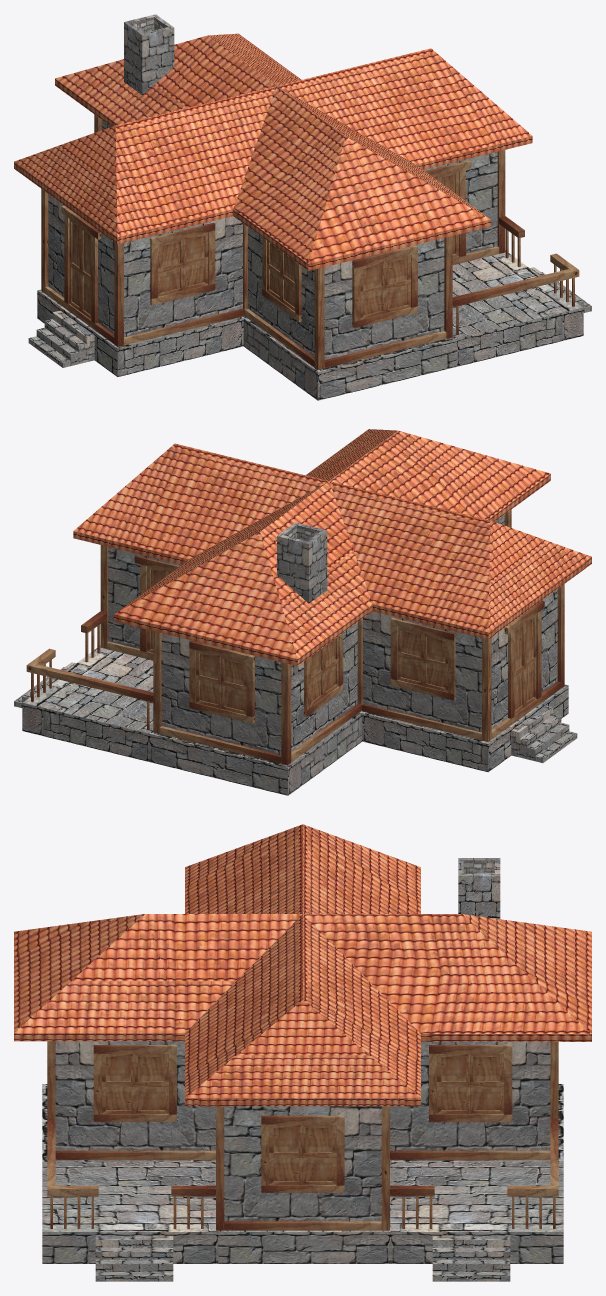
File: Building (19).glb
3 views of the same model, one above another, from view 1: azimuth 30°, elevation 25°; view 2: azimuth 150°, elevation 25°; view 3: azimuth 270°, elevation 25° (orthographic). The views are drawn at different scales.
Visible parts, largest first — view 1: h12; view 2: h12; view 3: h12.
Part boxes in pixels (x1,y1,x2,y2): h12: (14, 14, 591, 400); h12: (14, 429, 591, 795); h12: (14, 824, 591, 1281).
Size of the model in its own units: 14.33 by 6.92 by 13.83.
Materials: 3 (3 with a texture image).
